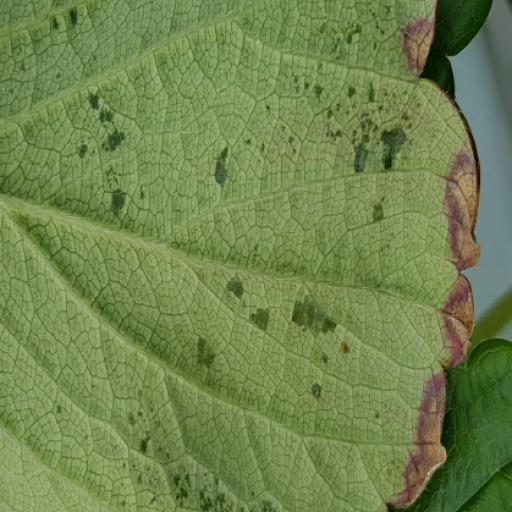Angular Leafspot: (2, 0, 482, 511)
